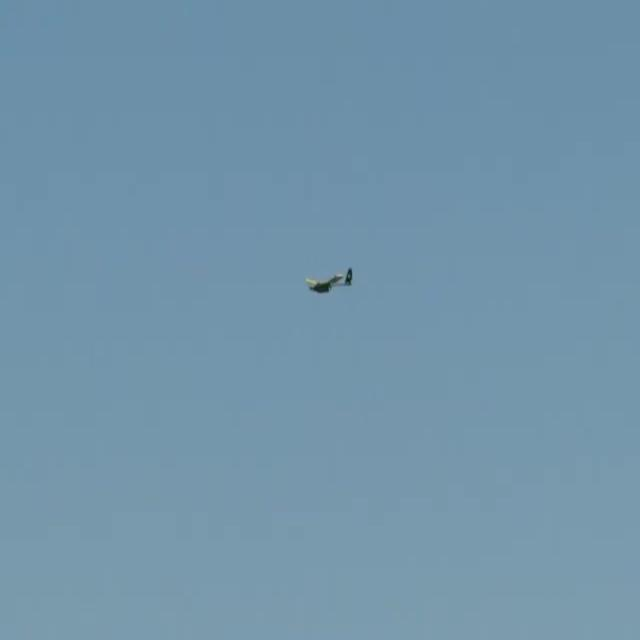iha: (300, 266, 347, 296)
